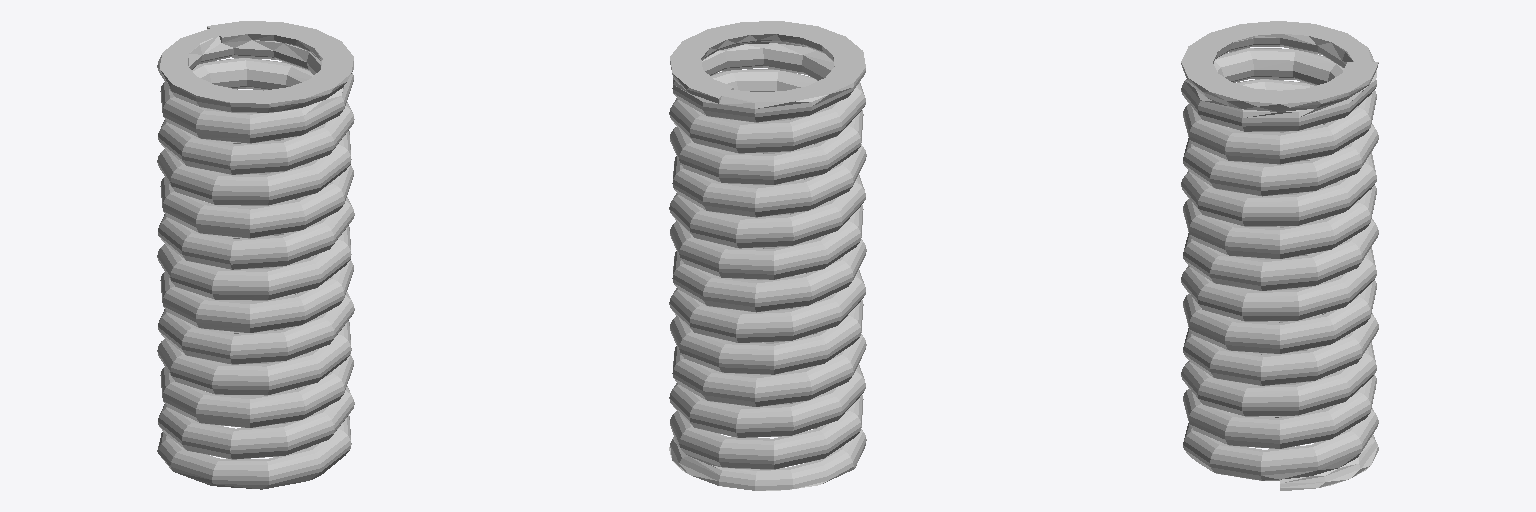
The model's file is 79. Пружина (в сборку).obj.
3 renders of one model, left to right at view 1: azimuth 30°, elevation 25°; view 2: azimuth 150°, elevation 25°; view 3: azimuth 270°, elevation 25°, orthographic.
Visible parts, largest first — view 1: Твердое тело1; view 2: Твердое тело1; view 3: Твердое тело1.
Boxes of the visible parts, <box> form: Твердое тело1: <box>157,21,354,489</box>; Твердое тело1: <box>669,21,866,490</box>; Твердое тело1: <box>1181,21,1378,490</box>.
Bounding box in the file's own units: 12.51 × 27 × 12.51.